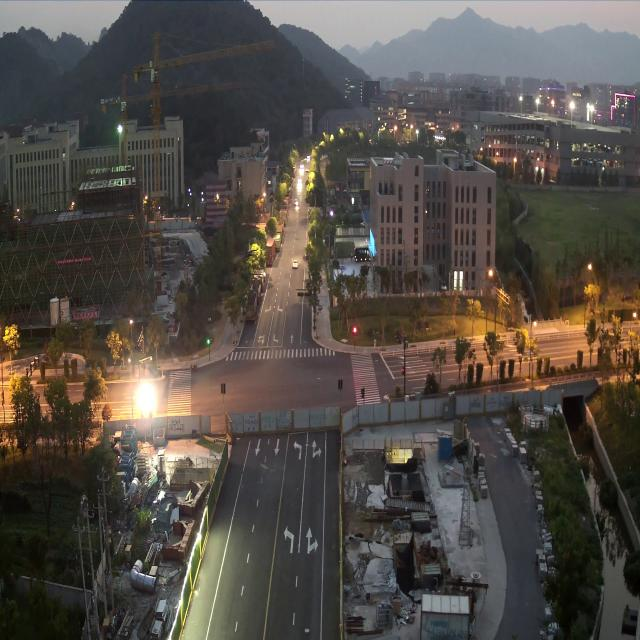UAV: (242, 248, 258, 258)
